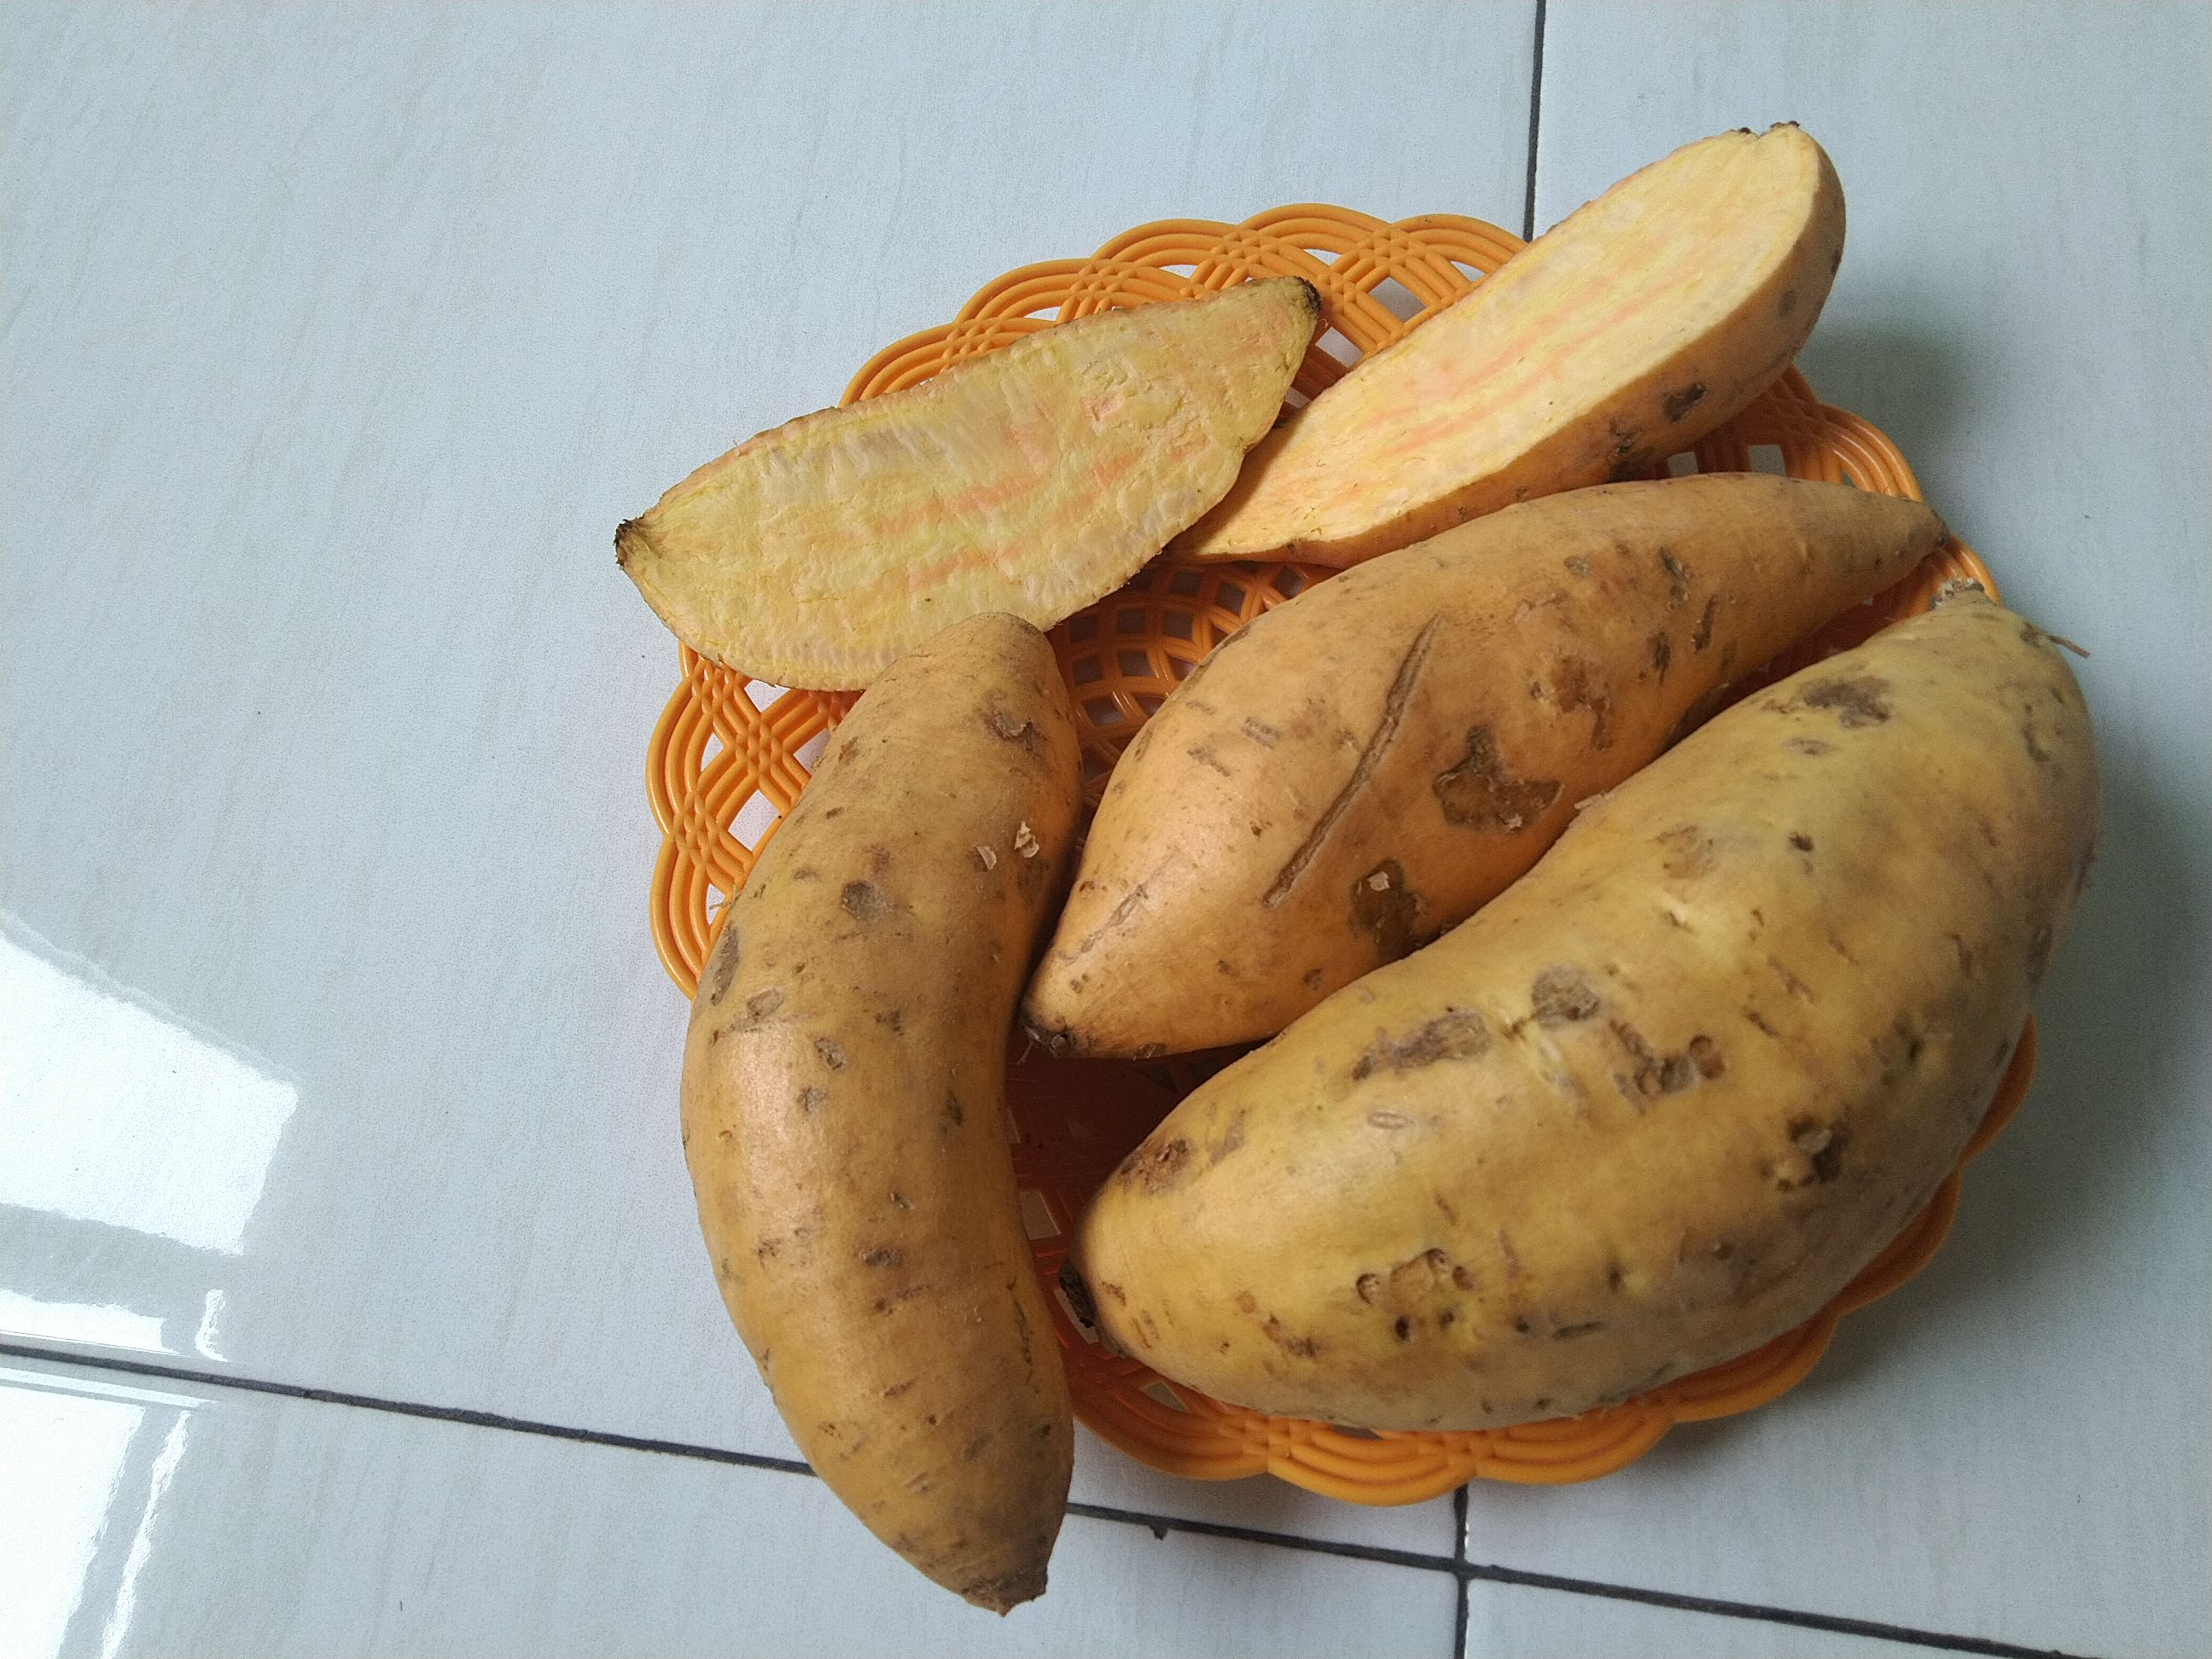ubi cilembu: (1071, 537, 2125, 1429), (1022, 481, 1958, 1079), (660, 606, 1113, 1631), (1184, 113, 1865, 577), (599, 274, 1322, 694)
